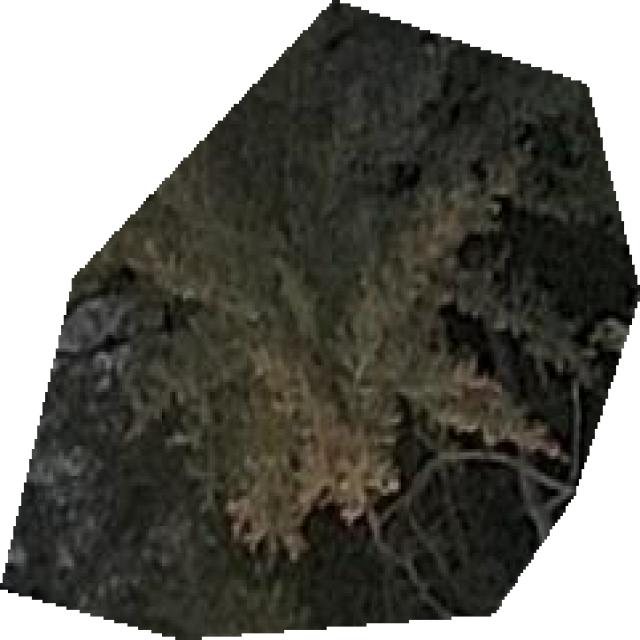spruce: (0, 3, 637, 637)
